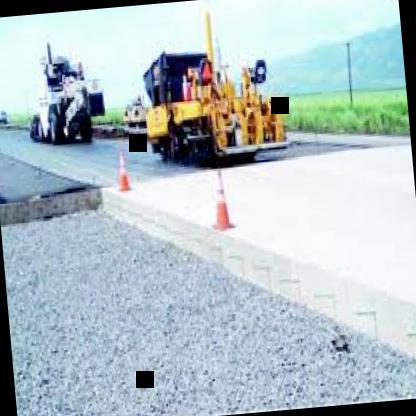car: (128, 32, 319, 197), (11, 30, 120, 152)
